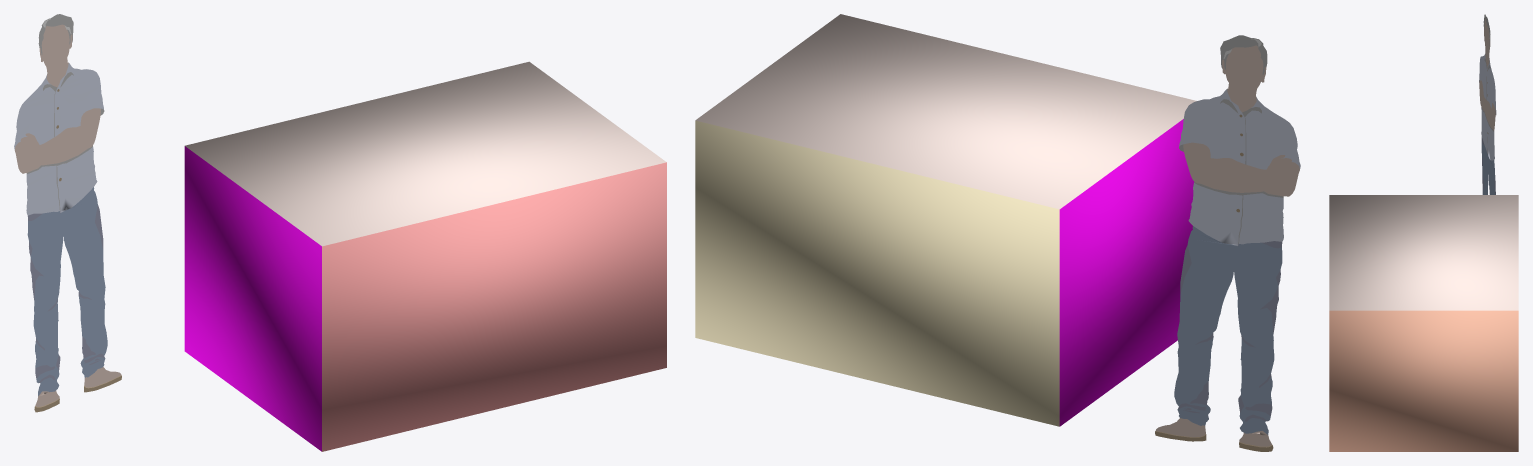
Rendered from testeblend.glb.
3 views of the same model, side by side, from view 1: azimuth 30°, elevation 25°; view 2: azimuth 150°, elevation 25°; view 3: azimuth 270°, elevation 25° (orthographic). The views are drawn at different scales.
Visible parts, largest first — view 1: nn; view 2: nn; view 3: nn.
Part boxes in pixels (<box>): nn: <box>14,14,666,451</box>; nn: <box>695,14,1300,451</box>; nn: <box>1329,14,1518,451</box>.
Bounding box in the file's own units: 2.6 × 1.79 × 1.14.
